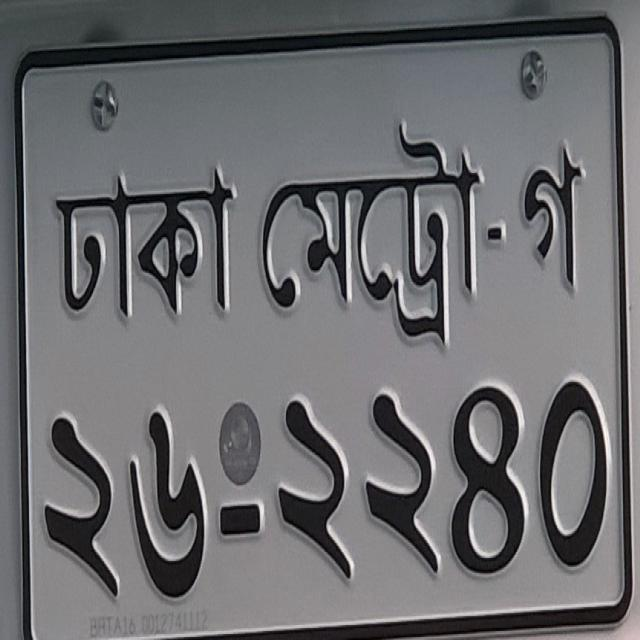numberplate: (10, 11, 631, 637)
